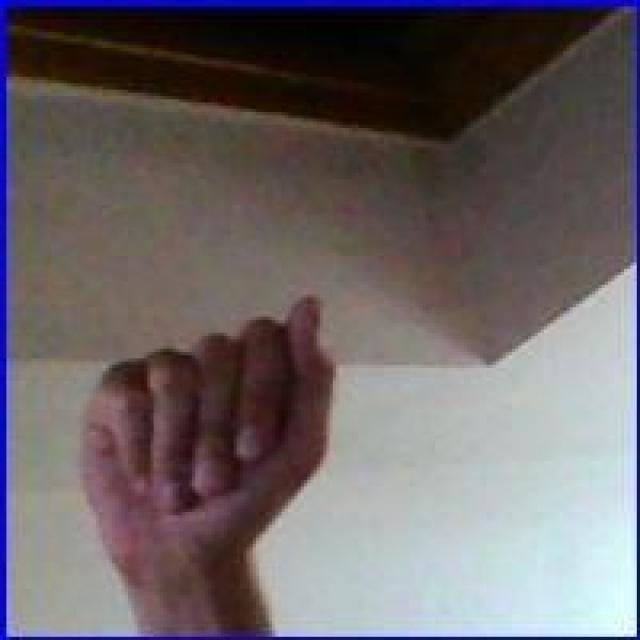A: (50, 290, 344, 590)
